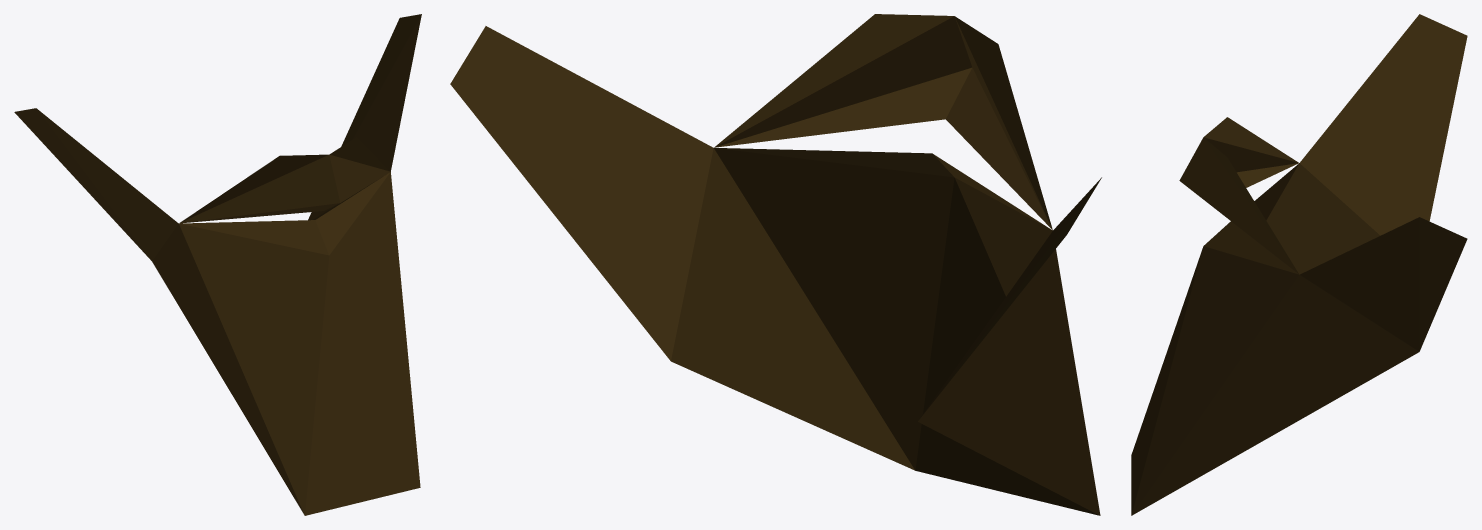
Rendered from model_83_idk_head.obj.
The picture shows the model from 3 angles, left to right: view 1: azimuth 30°, elevation 25°; view 2: azimuth 150°, elevation 25°; view 3: azimuth 270°, elevation 25°; orthographic projection. The views are drawn at different scales.
Visible parts, largest first — view 1: 83; view 2: 83; view 3: 83.
Boxes of the visible parts, left/top/right/bottom form: 83: left=14, top=14, right=421, bottom=515; 83: left=450, top=14, right=1101, bottom=515; 83: left=1131, top=14, right=1467, bottom=515.
Size of the model in its own units: 80 by 68 by 56.
